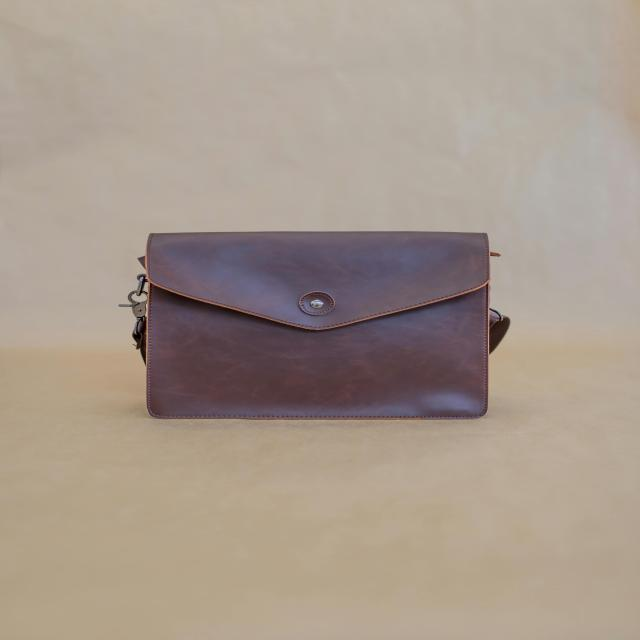bolsa: (119, 223, 512, 421)
